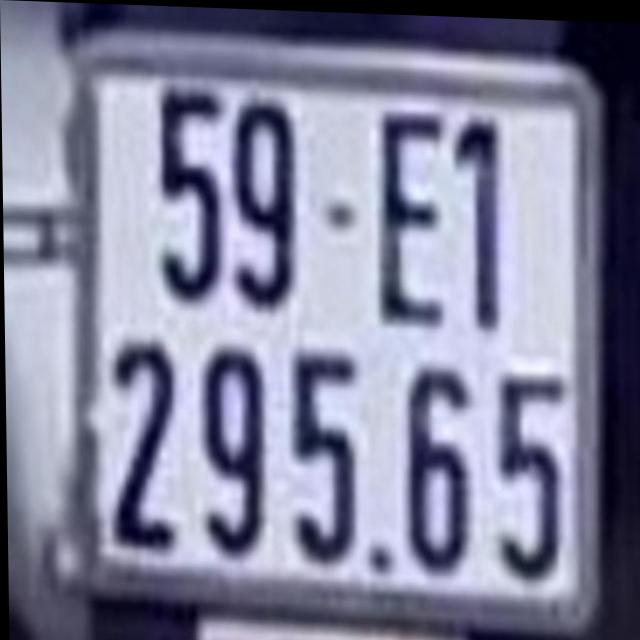1: (454, 112, 505, 327)
2: (109, 341, 176, 550)
5: (497, 370, 570, 583), (286, 338, 352, 563), (161, 90, 221, 299)
6: (404, 361, 469, 571)
9: (197, 344, 264, 560), (235, 100, 296, 301)
E: (380, 111, 449, 321)
